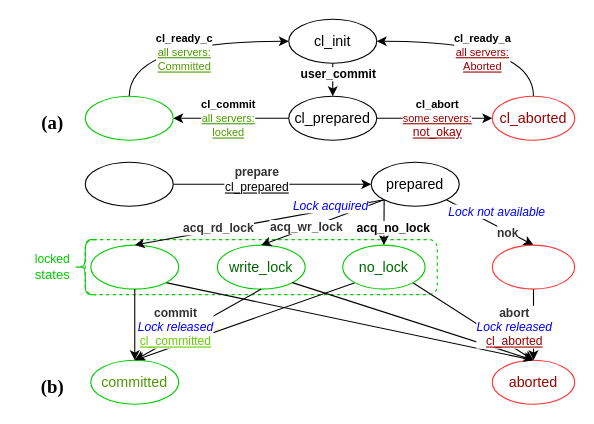
The diagram is 594 pixels wide and 424 high, and some of its shapes have lost their labels. Here are the shapes that lost their labels. From the top down, the centre of each, then its label:
the point at 128,117: cl_committed
the point at 128,183: working
the point at 134,266: read_lock
the point at 533,266: not_okay
